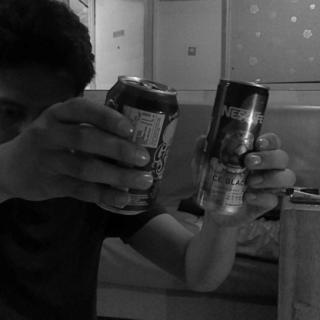alumunium_can: (94, 76, 180, 217), (193, 76, 270, 213)
